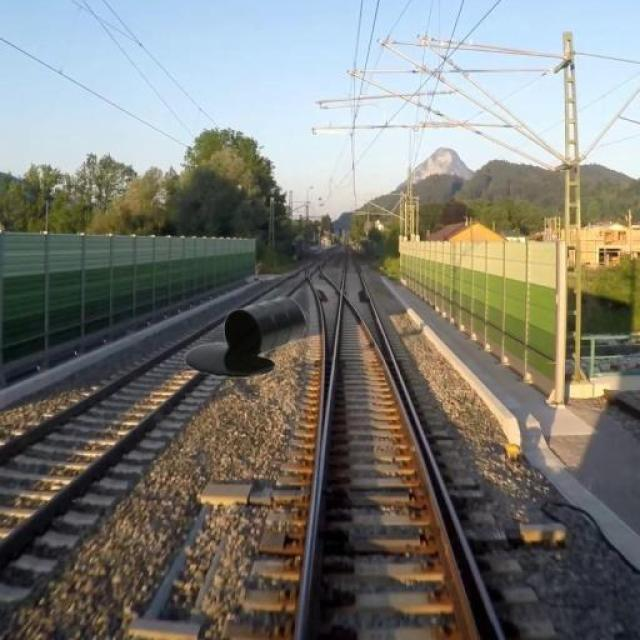Other_objects: (224, 293, 316, 359)
